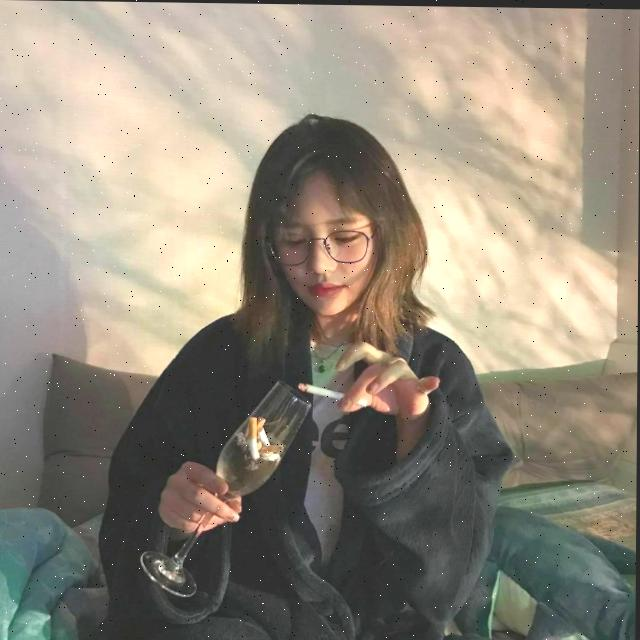cigarette: (299, 382, 369, 406), (248, 416, 261, 460)
